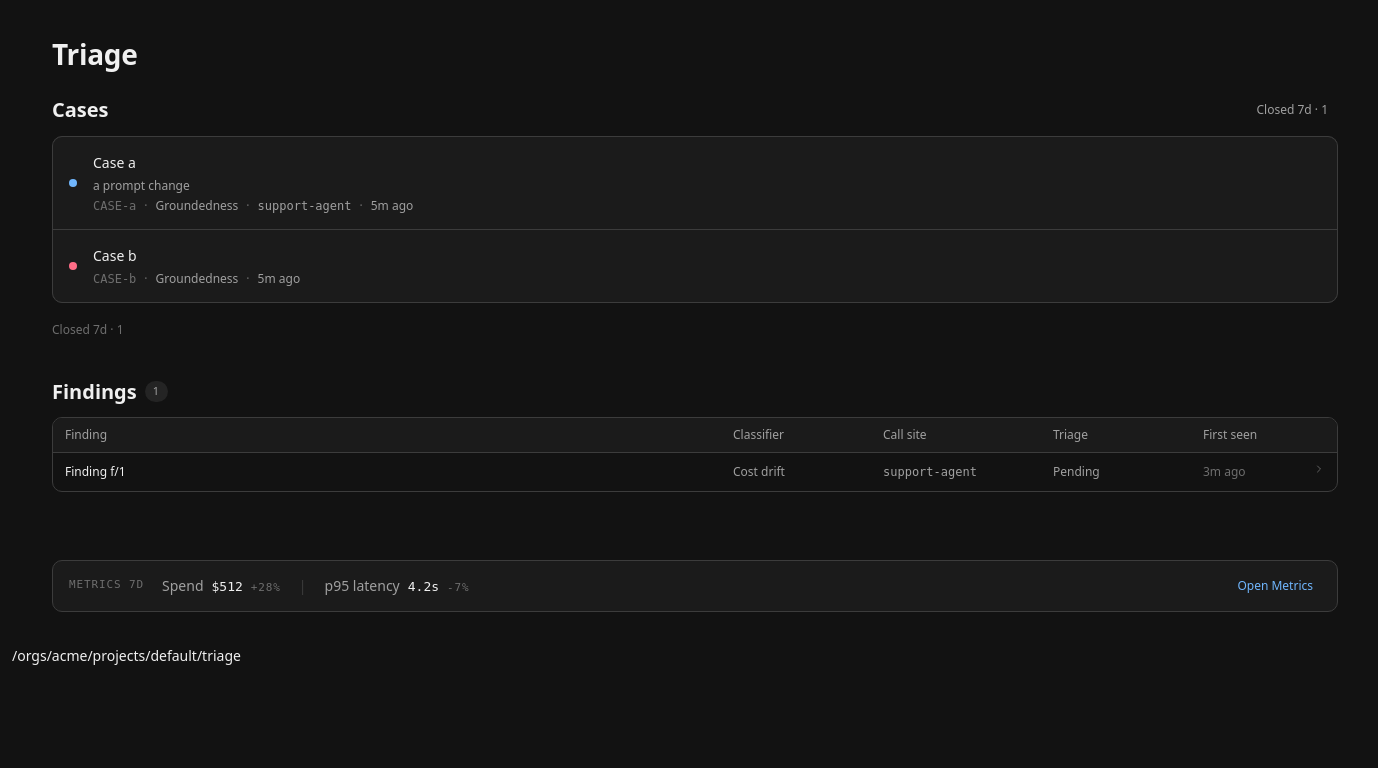
Scenario: the findings › opens a finding's own page from its row
Click the link "Finding f/1" at [95, 471], box x1=65 y1=463 x2=126 y2=480
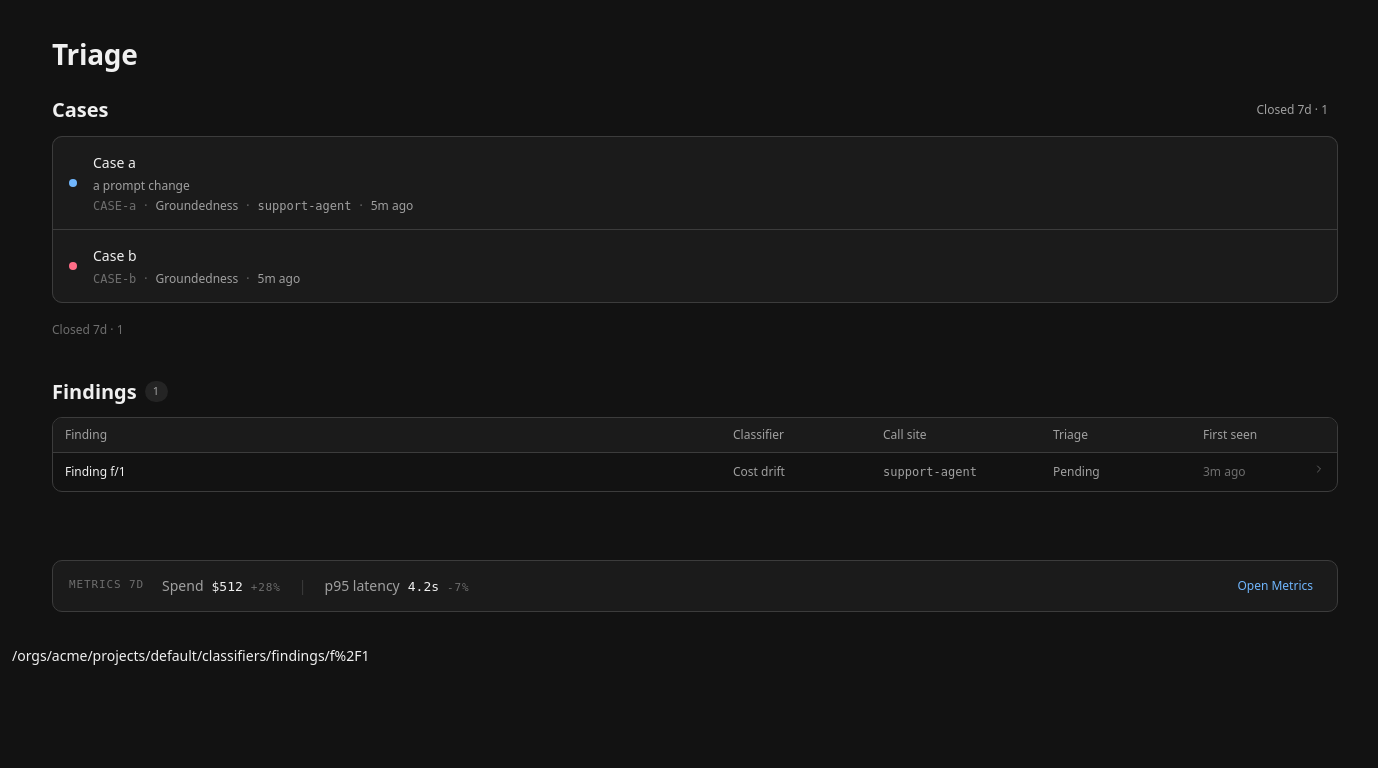
Check: the text named "location" reads "/orgs/acme/projects/default/classifiers/findings/f%2F1", box x1=12 y1=646 x2=370 y2=665
